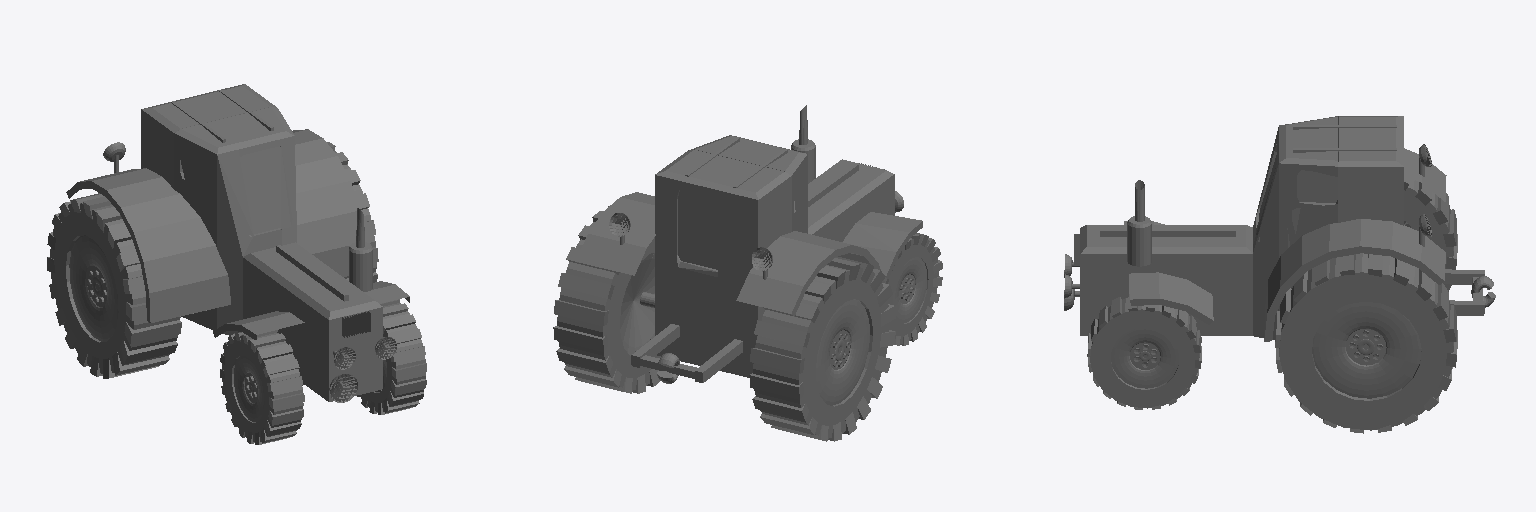
The model's file is Tractor005.obj.
3 views of the same model, side by side, from view 1: azimuth 30°, elevation 25°; view 2: azimuth 150°, elevation 25°; view 3: azimuth 270°, elevation 25° (orthographic).
Parts seen in each view (by area): view 1: polySurface290, polySurface350, polySurface355, pCube14; view 2: polySurface290, polySurface350, polySurface355, pCube14; view 3: polySurface290, polySurface350, polySurface355, pCube14.
Boxes of the visible parts, x1=… form: polySurface290: x1=66, y1=84, x2=409, y2=401; polySurface350: x1=47, y1=142, x2=426, y2=444; polySurface355: x1=69, y1=208, x2=396, y2=421; pCube14: x1=240, y1=146, x2=280, y2=233; polySurface290: x1=576, y1=135, x2=922, y2=382; polySurface350: x1=553, y1=206, x2=942, y2=441; polySurface355: x1=640, y1=105, x2=926, y2=405; pCube14: x1=678, y1=190, x2=717, y2=269; polySurface290: x1=1072, y1=116, x2=1484, y2=341; polySurface350: x1=1087, y1=176, x2=1457, y2=433; polySurface355: x1=1064, y1=180, x2=1495, y2=398; pCube14: x1=1258, y1=155, x2=1337, y2=247.
Bounding box in the file's own units: 9.18 × 8.21 × 13.62.